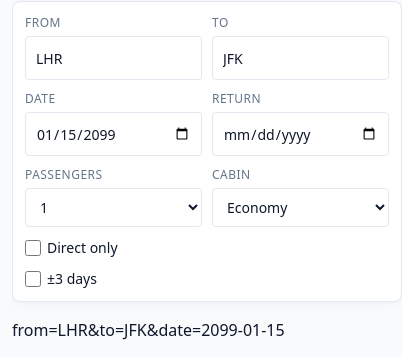
SearchFormBar › toggling Direct flips direct param
Click the checkbox labelled "Direct only": coordinates (33, 248) [25, 240, 41, 256]
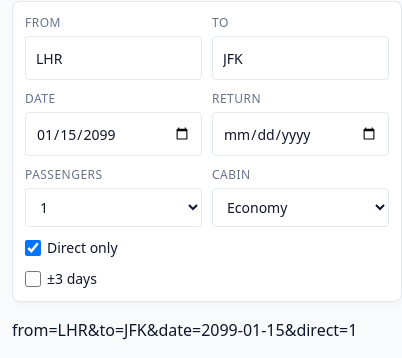
Now the text with test id "probe" shows "direct=1", box [12, 319, 357, 341]
